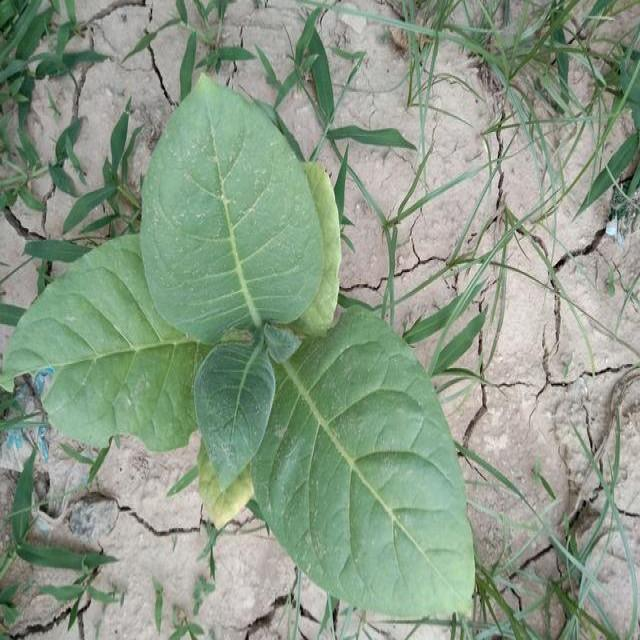crop: (19, 68, 482, 616)
